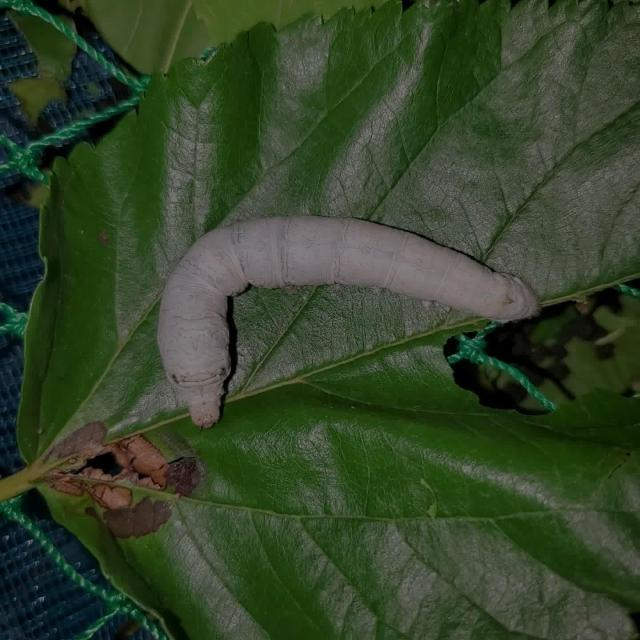Healthy: (146, 181, 544, 454)
